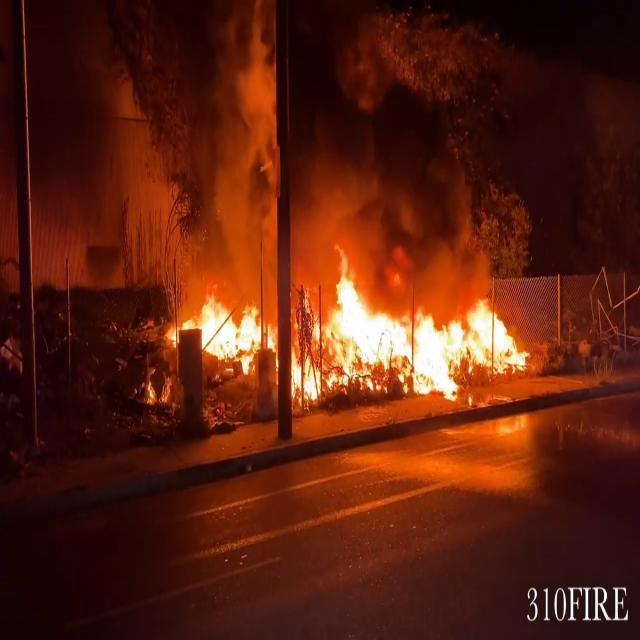Fire: (174, 264, 536, 398)
Smoke: (4, 0, 484, 270)
